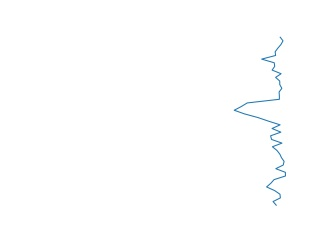interdistributaryEstuary: (228, 36, 294, 206)
